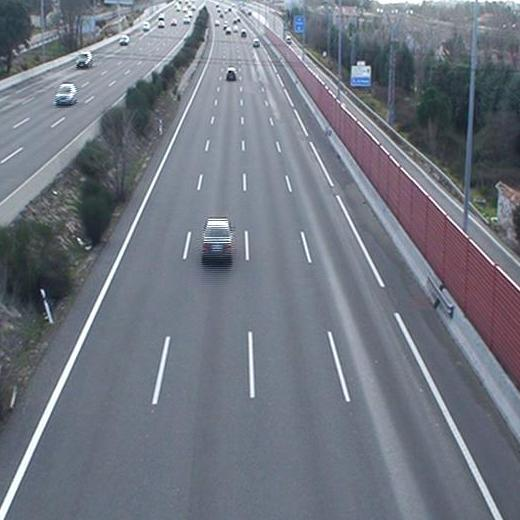car: (200, 216, 234, 263), (224, 66, 238, 82)
